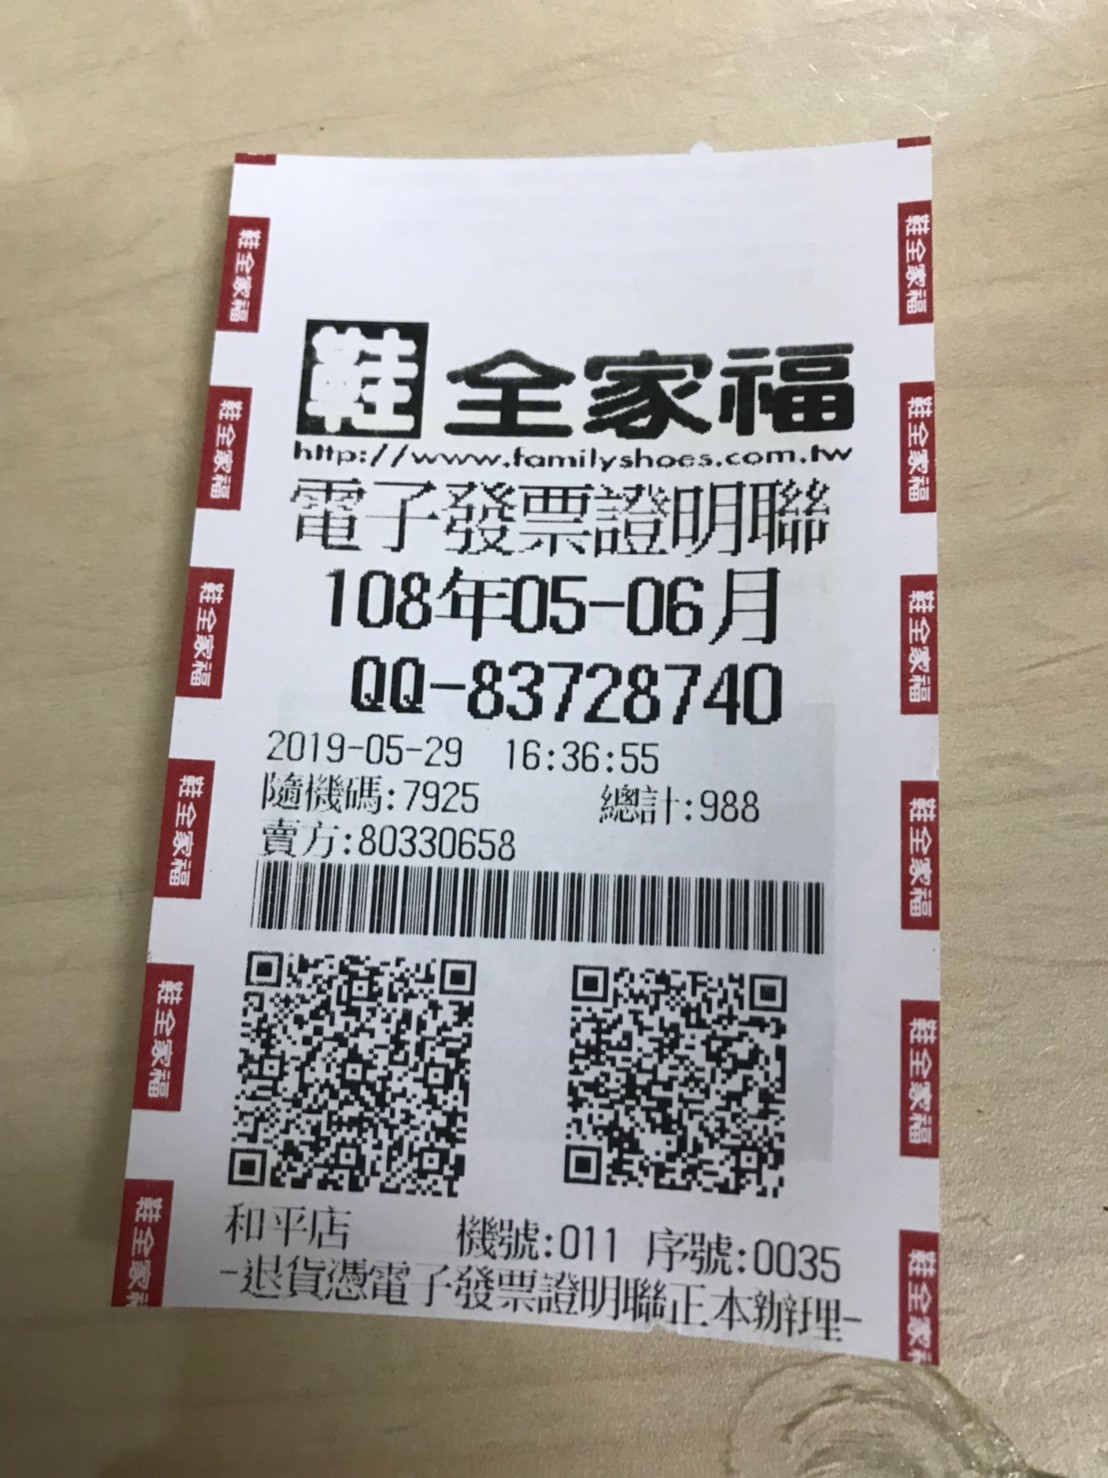Date_New: (318, 562, 783, 649)
Number_New: (463, 655, 783, 725)
